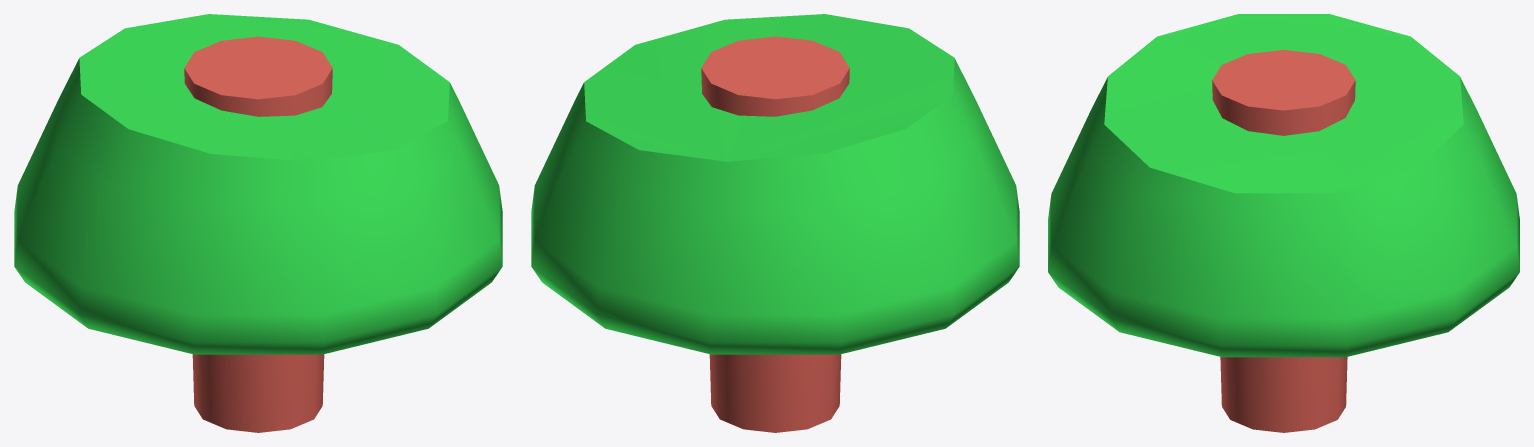
File: Tree_02_lvl.fbx
The picture shows the model from 3 angles, left to right: view 1: azimuth 30°, elevation 25°; view 2: azimuth 150°, elevation 25°; view 3: azimuth 270°, elevation 25°; orthographic projection. The views are drawn at different scales.
Parts seen in each view (by area): view 1: tree_4.005; view 2: tree_4.005; view 3: tree_4.005.
Part boxes in pixels (bbox=[...]): tree_4.005: bbox=[14, 14, 502, 432]; tree_4.005: bbox=[531, 14, 1019, 432]; tree_4.005: bbox=[1048, 14, 1519, 432].
Size of the model in its own units: 116 by 88.77 by 116.
